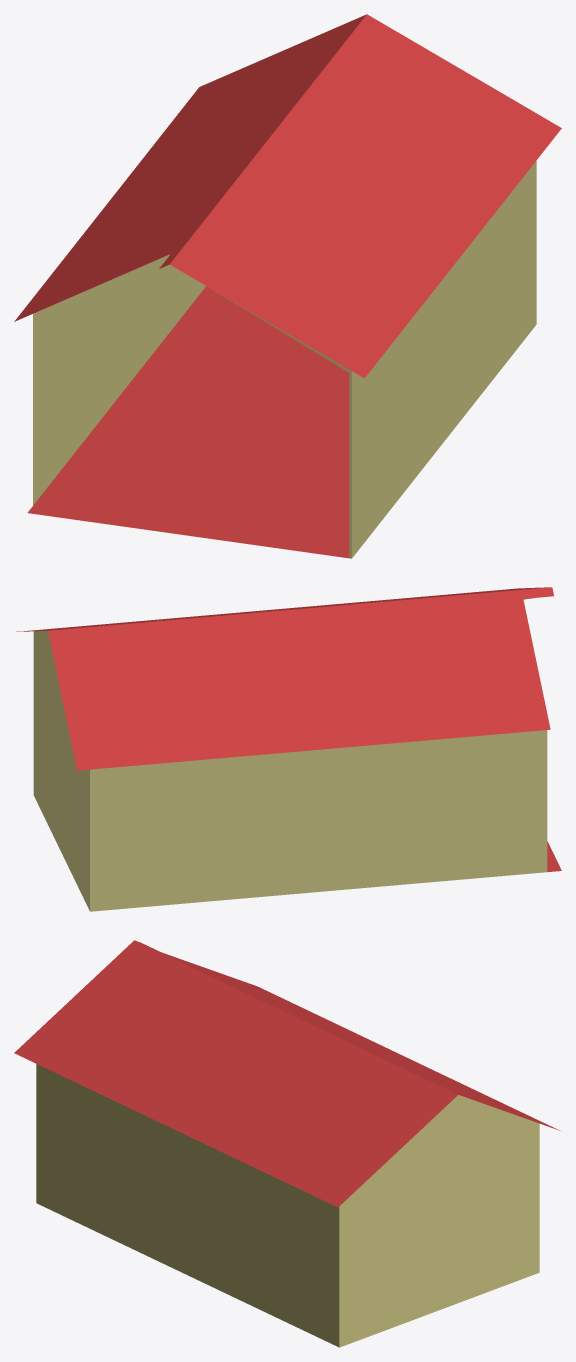
The picture shows the model from 3 angles, top to bottom: view 1: azimuth 30°, elevation 25°; view 2: azimuth 150°, elevation 25°; view 3: azimuth 270°, elevation 25°; orthographic projection. The views are drawn at different scales.
Visible parts, largest first — view 1: group_3, group_6, group_5, group_4; view 2: group_5, group_3, group_4; view 3: group_5, group_3.
Part boxes in pixels (x1,y1,x2,y2): group_3: (14, 14, 561, 378); group_6: (27, 286, 349, 558); group_5: (33, 161, 536, 558); group_4: (17, 87, 210, 320); group_5: (33, 597, 547, 911); group_3: (16, 587, 553, 770); group_4: (79, 587, 553, 769); group_5: (36, 1064, 539, 1347); group_3: (14, 940, 560, 1207).
Size of the model in its own units: 25.86 by 26.16 by 11.44.
